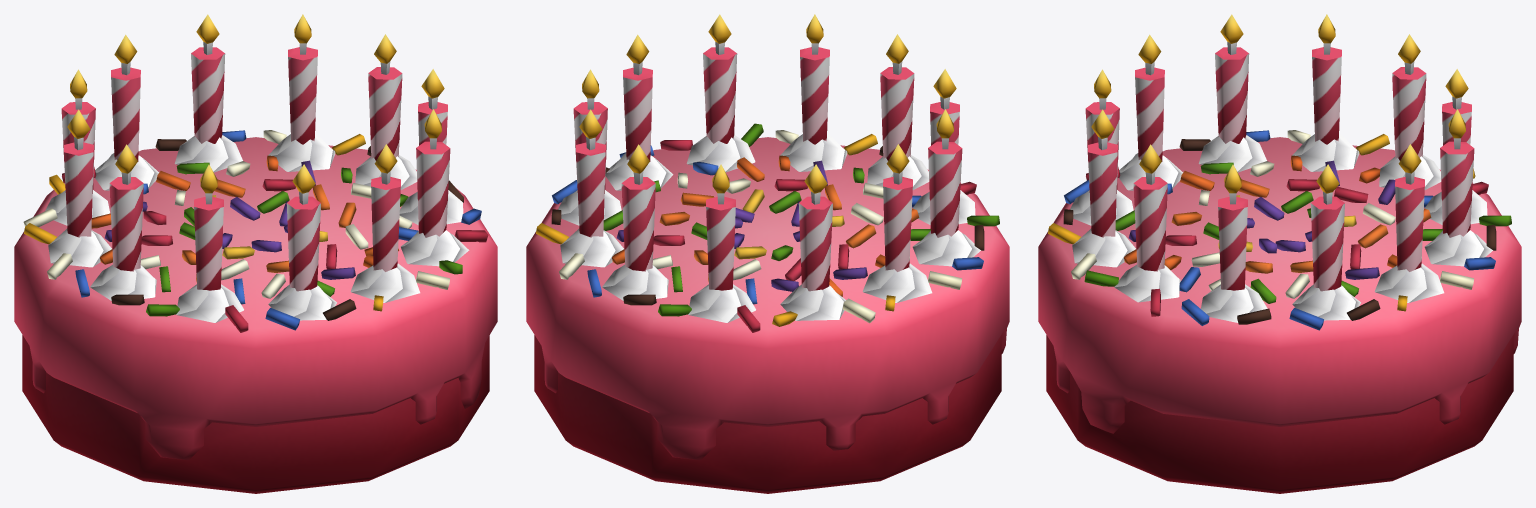
File: m_BirthdayCake02.fbx
The picture shows the model from 3 angles, left to right: view 1: azimuth 30°, elevation 25°; view 2: azimuth 150°, elevation 25°; view 3: azimuth 270°, elevation 25°; orthographic projection.
Parts seen in each view (by area): view 1: m_BirthdayCake02; view 2: m_BirthdayCake02; view 3: m_BirthdayCake02.
Part boxes in pixels (bbox=[...]): m_BirthdayCake02: bbox=[14, 14, 497, 493]; m_BirthdayCake02: bbox=[526, 14, 1009, 493]; m_BirthdayCake02: bbox=[1038, 14, 1521, 493].
Size of the model in its own units: 28.97 by 20.5 by 28.97.
